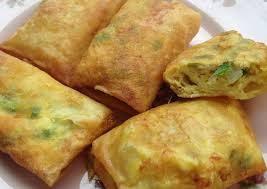Martabak telur: (0, 44, 120, 187), (92, 105, 266, 189), (78, 1, 203, 113), (3, 2, 125, 87), (167, 29, 263, 106)
